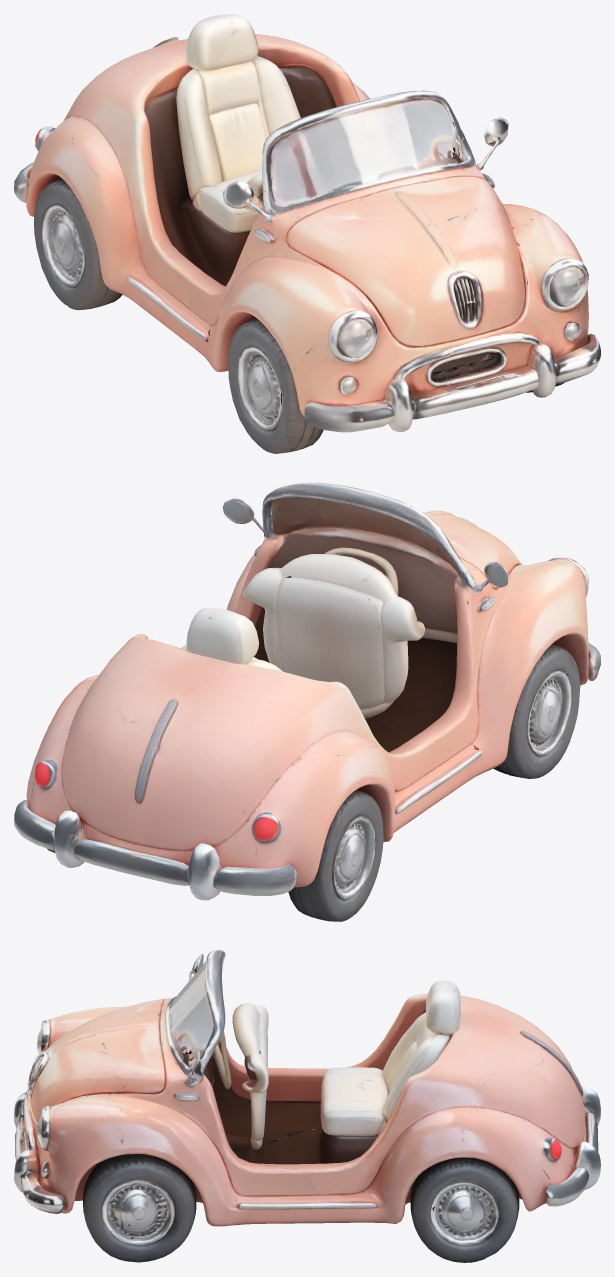
The model's file is mochi.glb.
3 views of the same model, one above another, from view 1: azimuth 30°, elevation 25°; view 2: azimuth 150°, elevation 25°; view 3: azimuth 270°, elevation 25° (orthographic). The views are drawn at different scales.
Parts seen in each view (by area): view 1: model; view 2: model; view 3: model.
Boxes of the visible parts, x1=… form: model: x1=14, y1=14, x2=600, y2=453; model: x1=14, y1=482, x2=600, y2=921; model: x1=14, y1=950, x2=600, y2=1262.
Bounding box in the file's own units: 0.9441 × 0.8406 × 1.9.
Materials: 1 (1 with a texture image).
